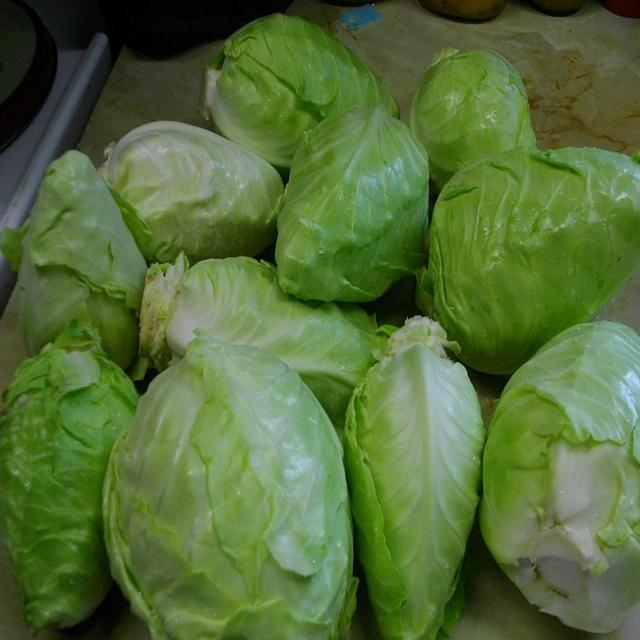cabbage: (114, 342, 358, 640), (432, 134, 640, 371), (492, 327, 640, 630), (356, 308, 481, 640), (5, 321, 134, 637), (126, 259, 394, 393), (263, 113, 435, 300), (209, 5, 395, 161), (12, 137, 138, 345), (109, 119, 283, 253)
